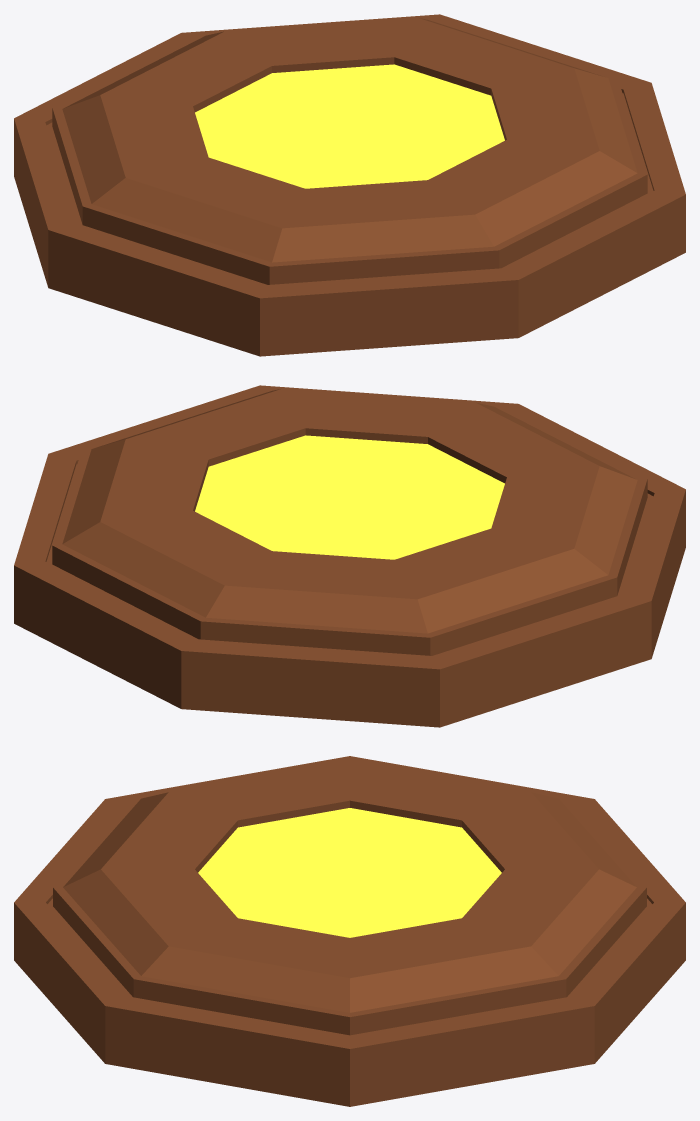
The model's file is generador_de_Armas.fbx.
The picture shows the model from 3 angles, top to bottom: view 1: azimuth 30°, elevation 25°; view 2: azimuth 150°, elevation 25°; view 3: azimuth 270°, elevation 25°; orthographic projection.
Parts seen in each view (by area): view 1: Cube; view 2: Cube; view 3: Cube.
Boxes of the visible parts, box(x1,y1,x2,y2) form: Cube: box(14, 14, 685, 356); Cube: box(14, 385, 685, 727); Cube: box(14, 756, 685, 1106).
Size of the model in its own units: 283 by 41.08 by 274.
